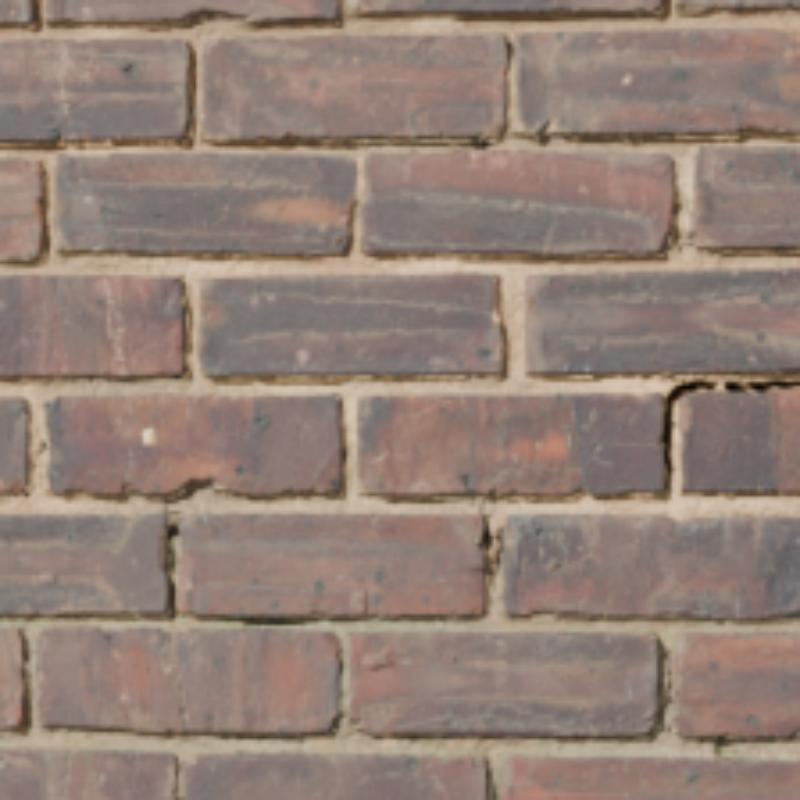pothole: (664, 379, 796, 489)
